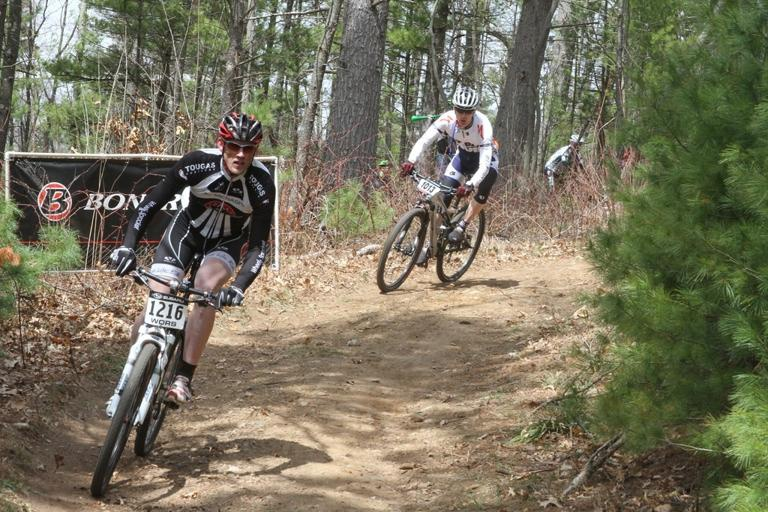non-vehicle: (89, 249, 244, 499), (376, 165, 486, 292)
